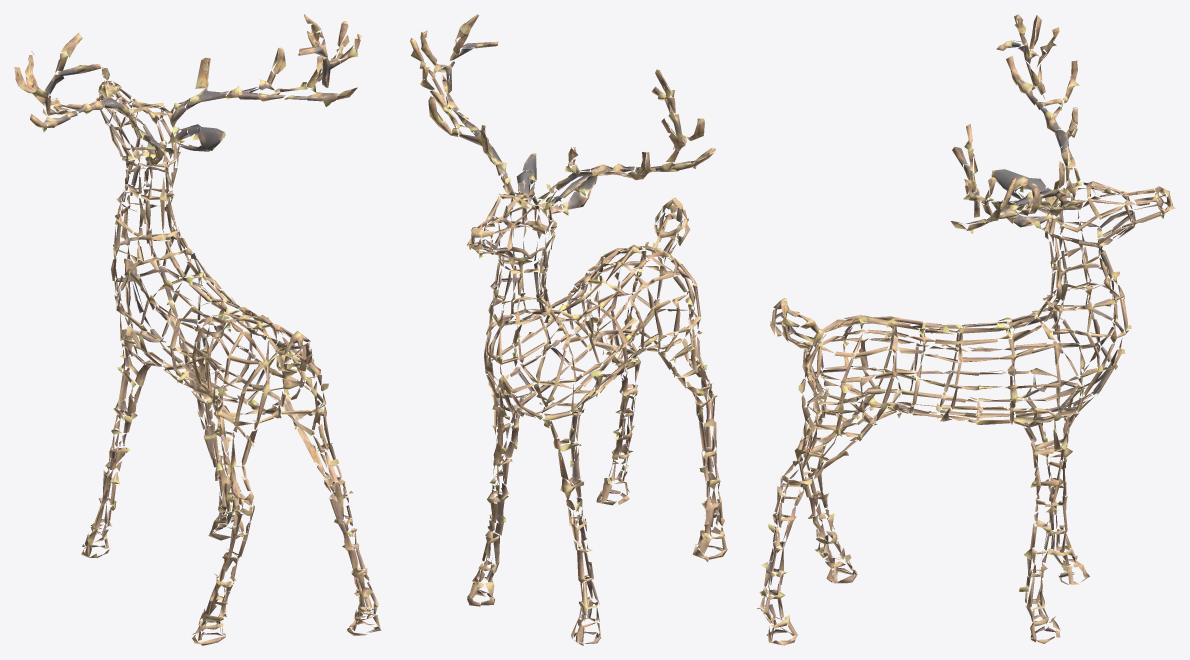
File: lt_reindeer.glb
3 views of the same model, side by side, from view 1: azimuth 30°, elevation 25°; view 2: azimuth 150°, elevation 25°; view 3: azimuth 270°, elevation 25° (orthographic). The views are drawn at different scales.
Parts seen in each view (by area): view 1: tripo_node_f745d3cf-857e-4666-8f71-eb203970a74d; view 2: tripo_node_f745d3cf-857e-4666-8f71-eb203970a74d; view 3: tripo_node_f745d3cf-857e-4666-8f71-eb203970a74d.
Part boxes in pixels (x1=…): tripo_node_f745d3cf-857e-4666-8f71-eb203970a74d: x1=14, y1=14, x2=381, y2=645; tripo_node_f745d3cf-857e-4666-8f71-eb203970a74d: x1=410, y1=14, x2=727, y2=645; tripo_node_f745d3cf-857e-4666-8f71-eb203970a74d: x1=757, y1=14, x2=1175, y2=645.
Bounding box in the file's own units: 0.5932 × 0.9995 × 0.6951.
Materials: 1 (1 with a texture image).
